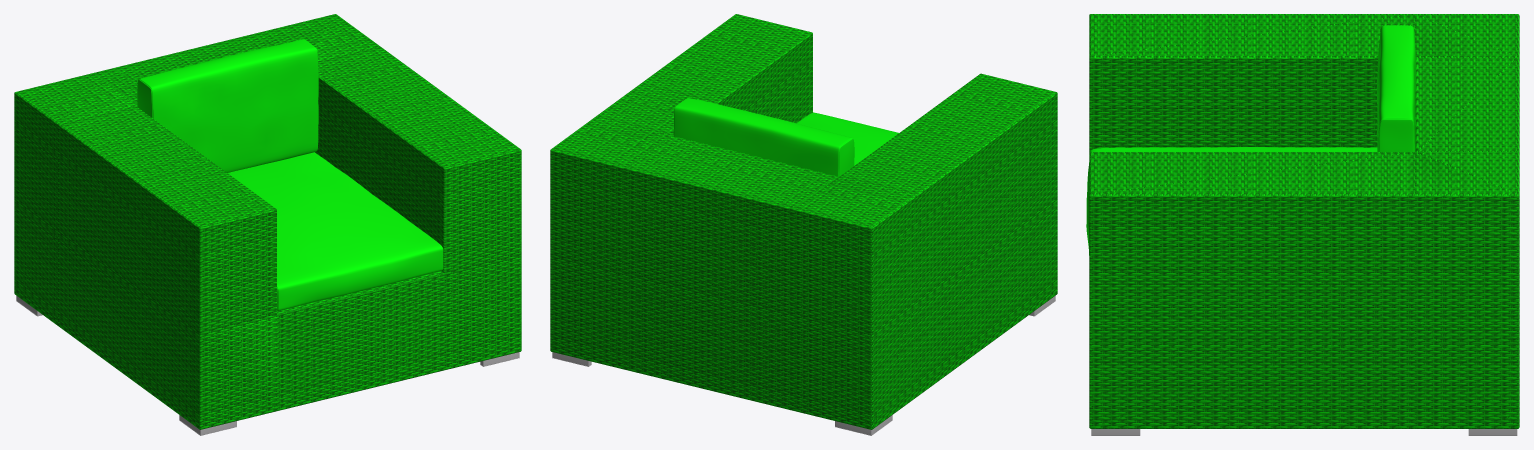
3 views of the same model, side by side, from view 1: azimuth 30°, elevation 25°; view 2: azimuth 150°, elevation 25°; view 3: azimuth 270°, elevation 25° (orthographic). The views are drawn at different scales.
Size of the model in its own units: 1.06 by 0.75 by 1.06.
3 materials, 3 textured.
